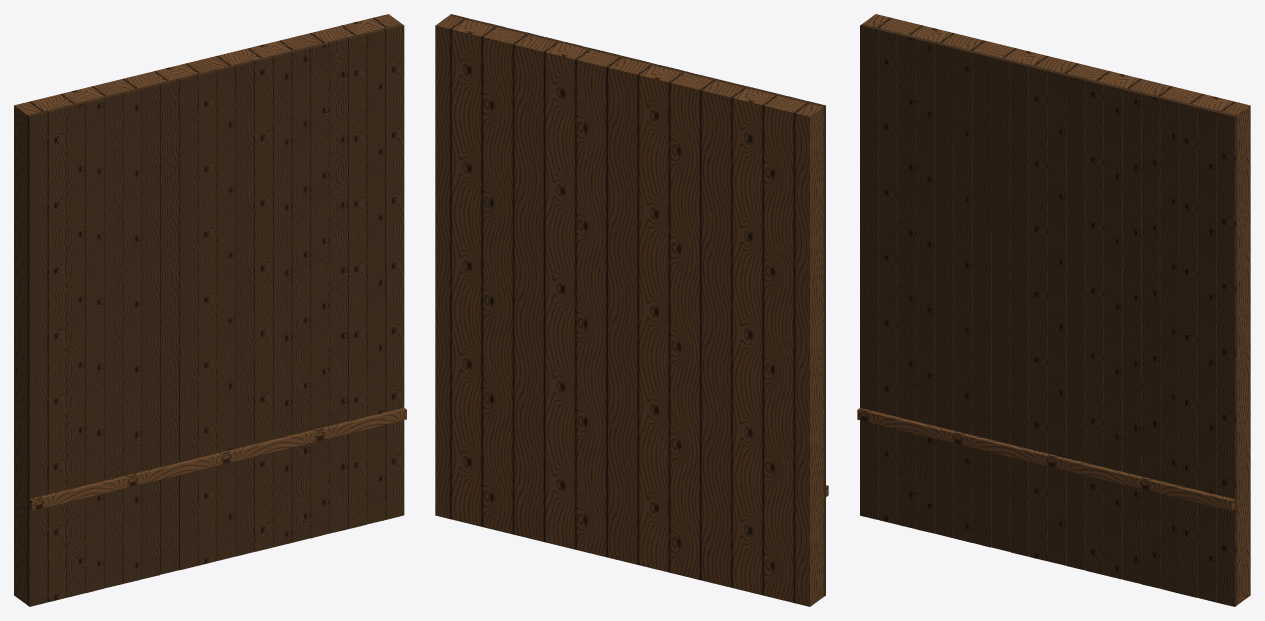
Rendered from Wall_Plank.glb.
3 views of the same model, side by side, from view 1: azimuth 30°, elevation 25°; view 2: azimuth 150°, elevation 25°; view 3: azimuth 330°, elevation 25° (orthographic).
Visible parts, largest first — view 1: Wall_Plank; view 2: Wall_Plank; view 3: Wall_Plank.
Boxes of the visible parts, x1,y1,x2,y2 form: Wall_Plank: (14, 14, 406, 606); Wall_Plank: (435, 14, 828, 606); Wall_Plank: (857, 14, 1250, 606).
Size of the model in its own units: 4 by 5 by 0.34.
2 materials, 2 textured.
